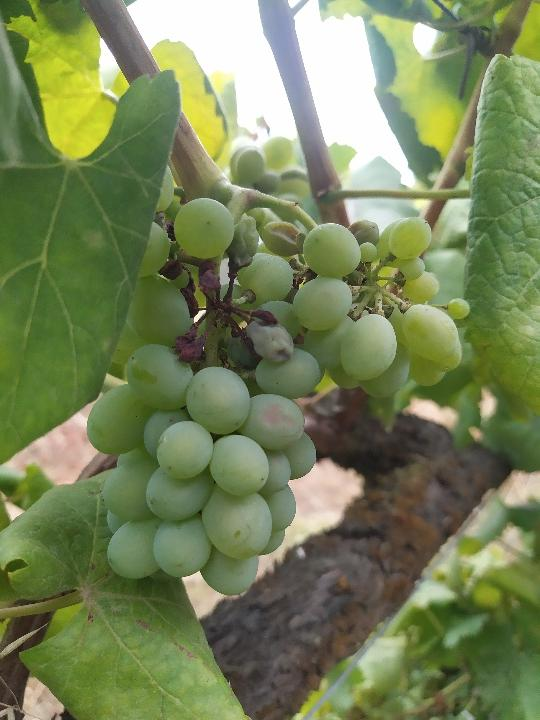grape: (84, 195, 463, 601)
